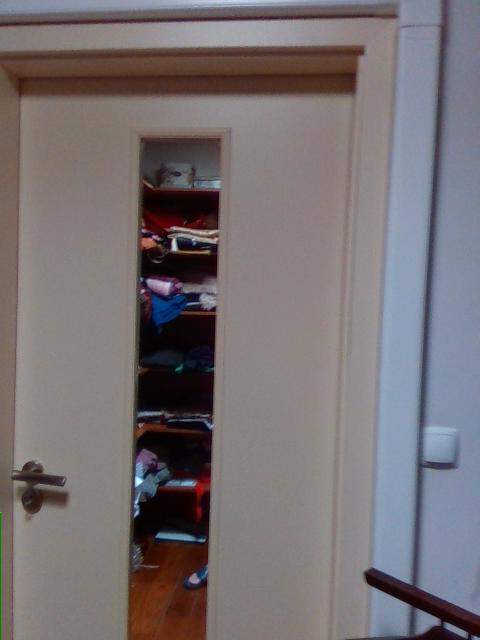door: (0, 18, 390, 639)
